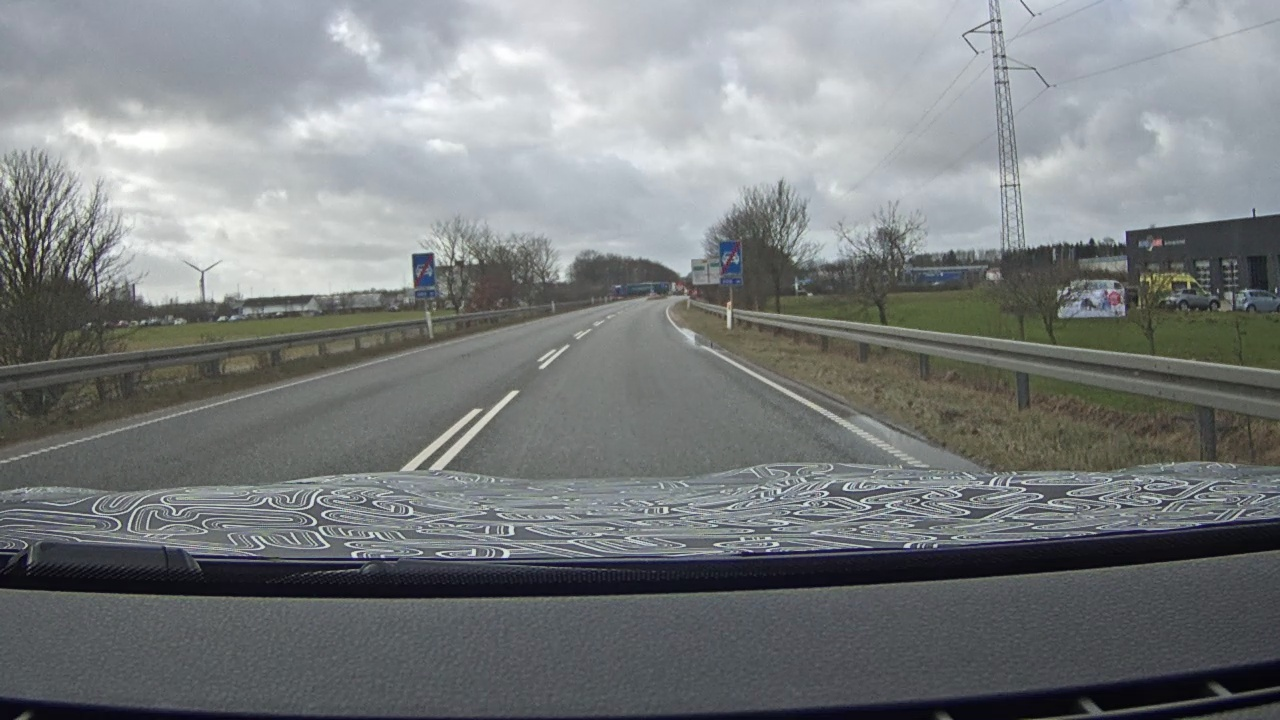Expressway_End: (411, 252, 437, 289), (719, 239, 743, 276)
